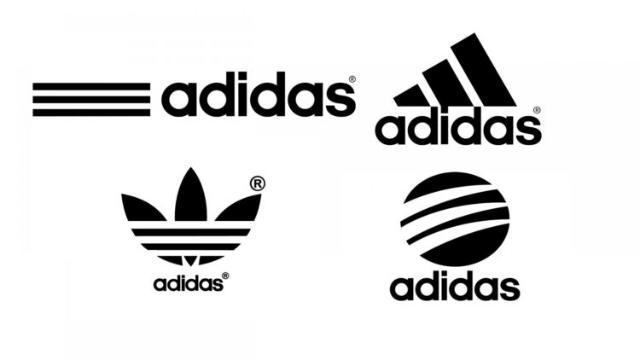Adidas: (20, 41, 362, 143), (378, 162, 544, 316), (370, 28, 562, 156), (114, 151, 278, 297)
